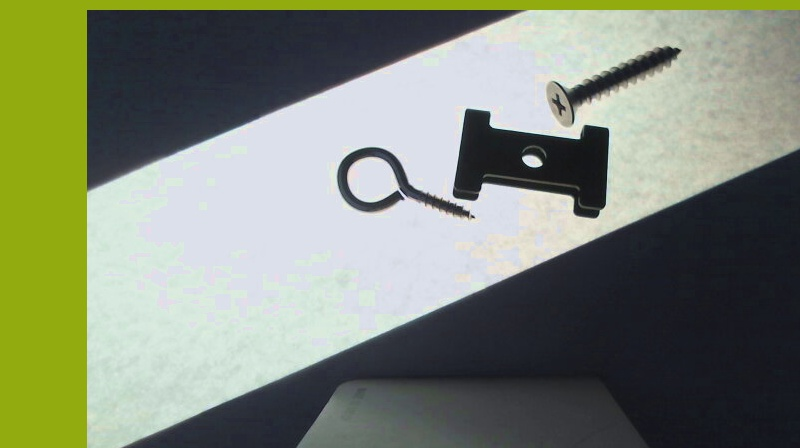O001: (337, 145, 479, 223)
O002: (453, 106, 611, 219)
S001: (544, 43, 684, 127)
